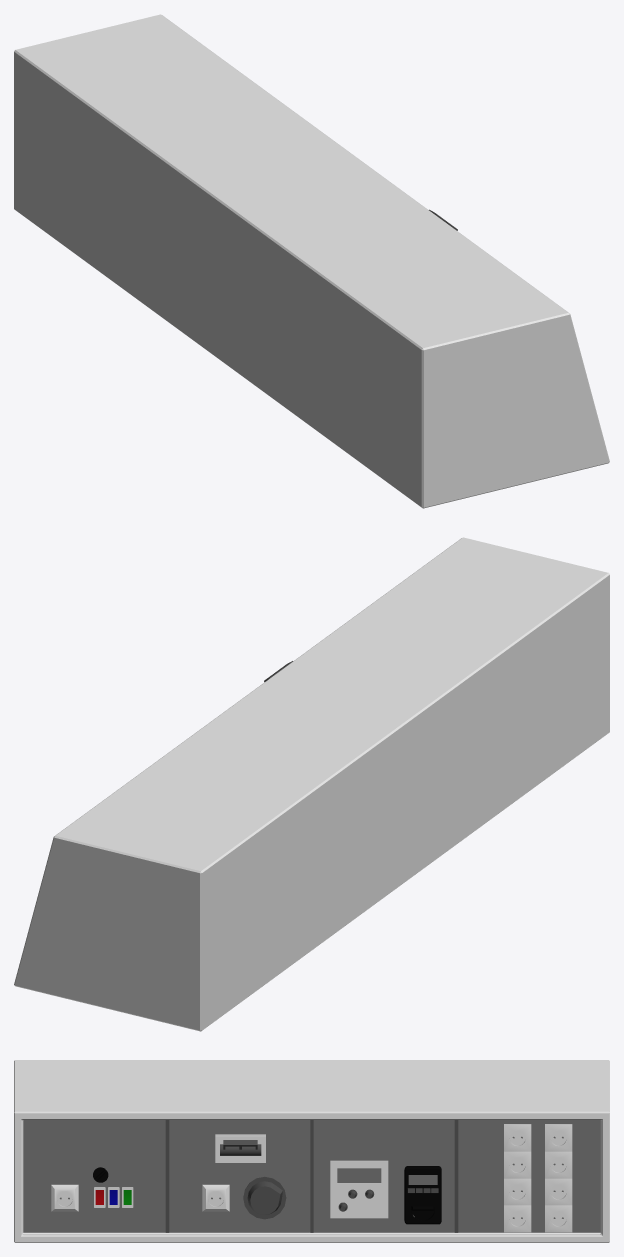
File: Elec_table.fbx
The picture shows the model from 3 angles, top to bottom: view 1: azimuth 30°, elevation 25°; view 2: azimuth 150°, elevation 25°; view 3: azimuth 270°, elevation 25°; orthographic projection. The views are drawn at different scales.
Visible parts, largest first — view 1: Cube; view 2: Cube; view 3: Cube.
Boxes of the visible parts, x1,y1,x2,y2 form: Cube: (14, 14, 609, 508); Cube: (14, 537, 609, 1031); Cube: (14, 1060, 609, 1242).
Size of the model in its own units: 548 by 446 by 2061.
Materials: 1 (1 with a texture image).
